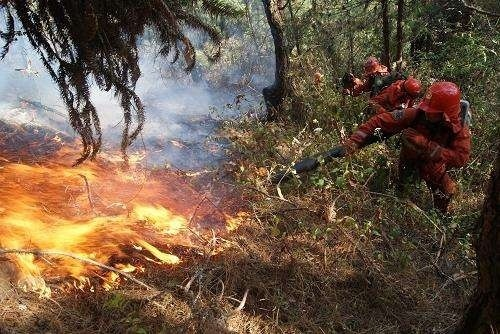fire: (0, 103, 244, 297)
